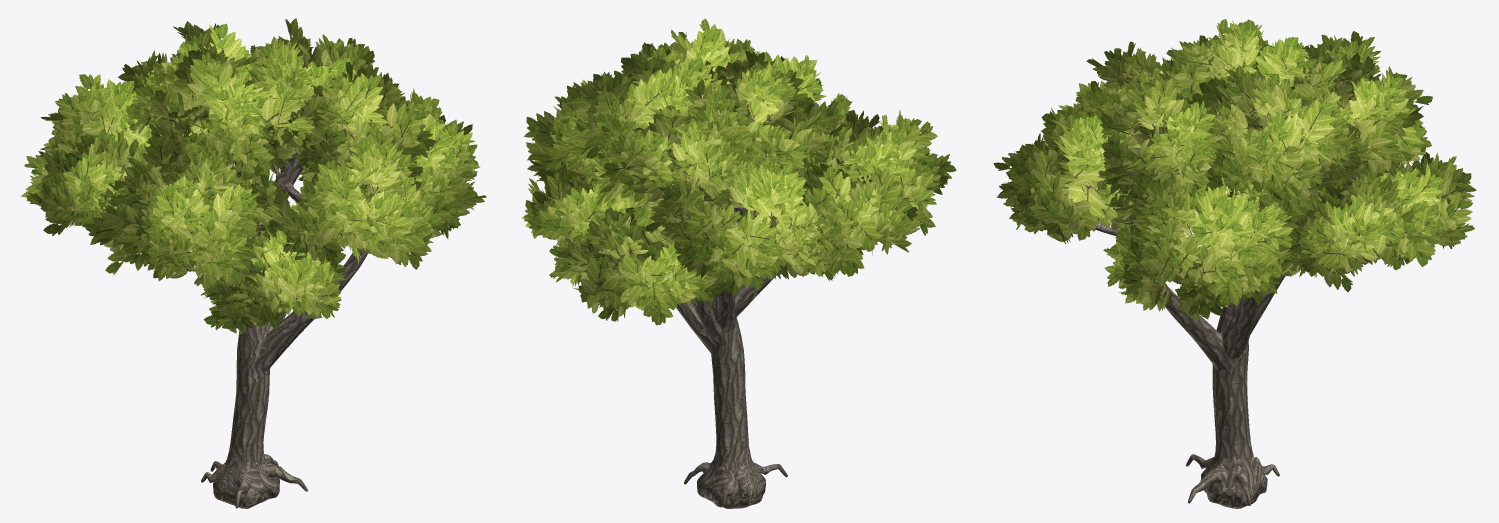
Rendered from environment_elm4_v34.fbx.
The picture shows the model from 3 angles, left to right: view 1: azimuth 30°, elevation 25°; view 2: azimuth 150°, elevation 25°; view 3: azimuth 270°, elevation 25°; orthographic projection. The views are drawn at different scales.
Parts seen in each view (by area): view 1: environment_elm4_v34_lod0; view 2: environment_elm4_v34_lod0; view 3: environment_elm4_v34_lod0.
Boxes of the visible parts, <box> form: environment_elm4_v34_lod0: <box>21,18,486,508</box>; environment_elm4_v34_lod0: <box>521,18,956,508</box>; environment_elm4_v34_lod0: <box>993,19,1476,508</box>.
Size of what is drawn, in the model's own units: 2318 by 2370 by 2261.
2 materials, 2 textured.
